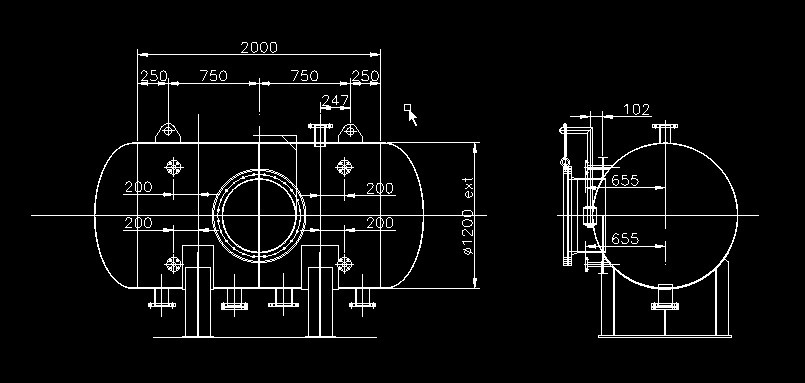nozzle: (637, 273, 698, 319), (643, 116, 694, 154), (139, 280, 190, 317), (300, 110, 336, 152), (265, 282, 304, 319), (344, 282, 385, 317), (222, 282, 255, 321)
